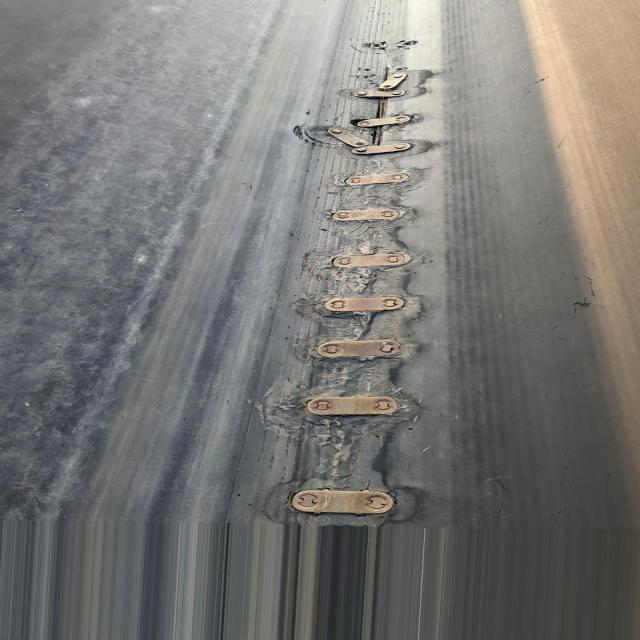patch work: (259, 33, 435, 525)
